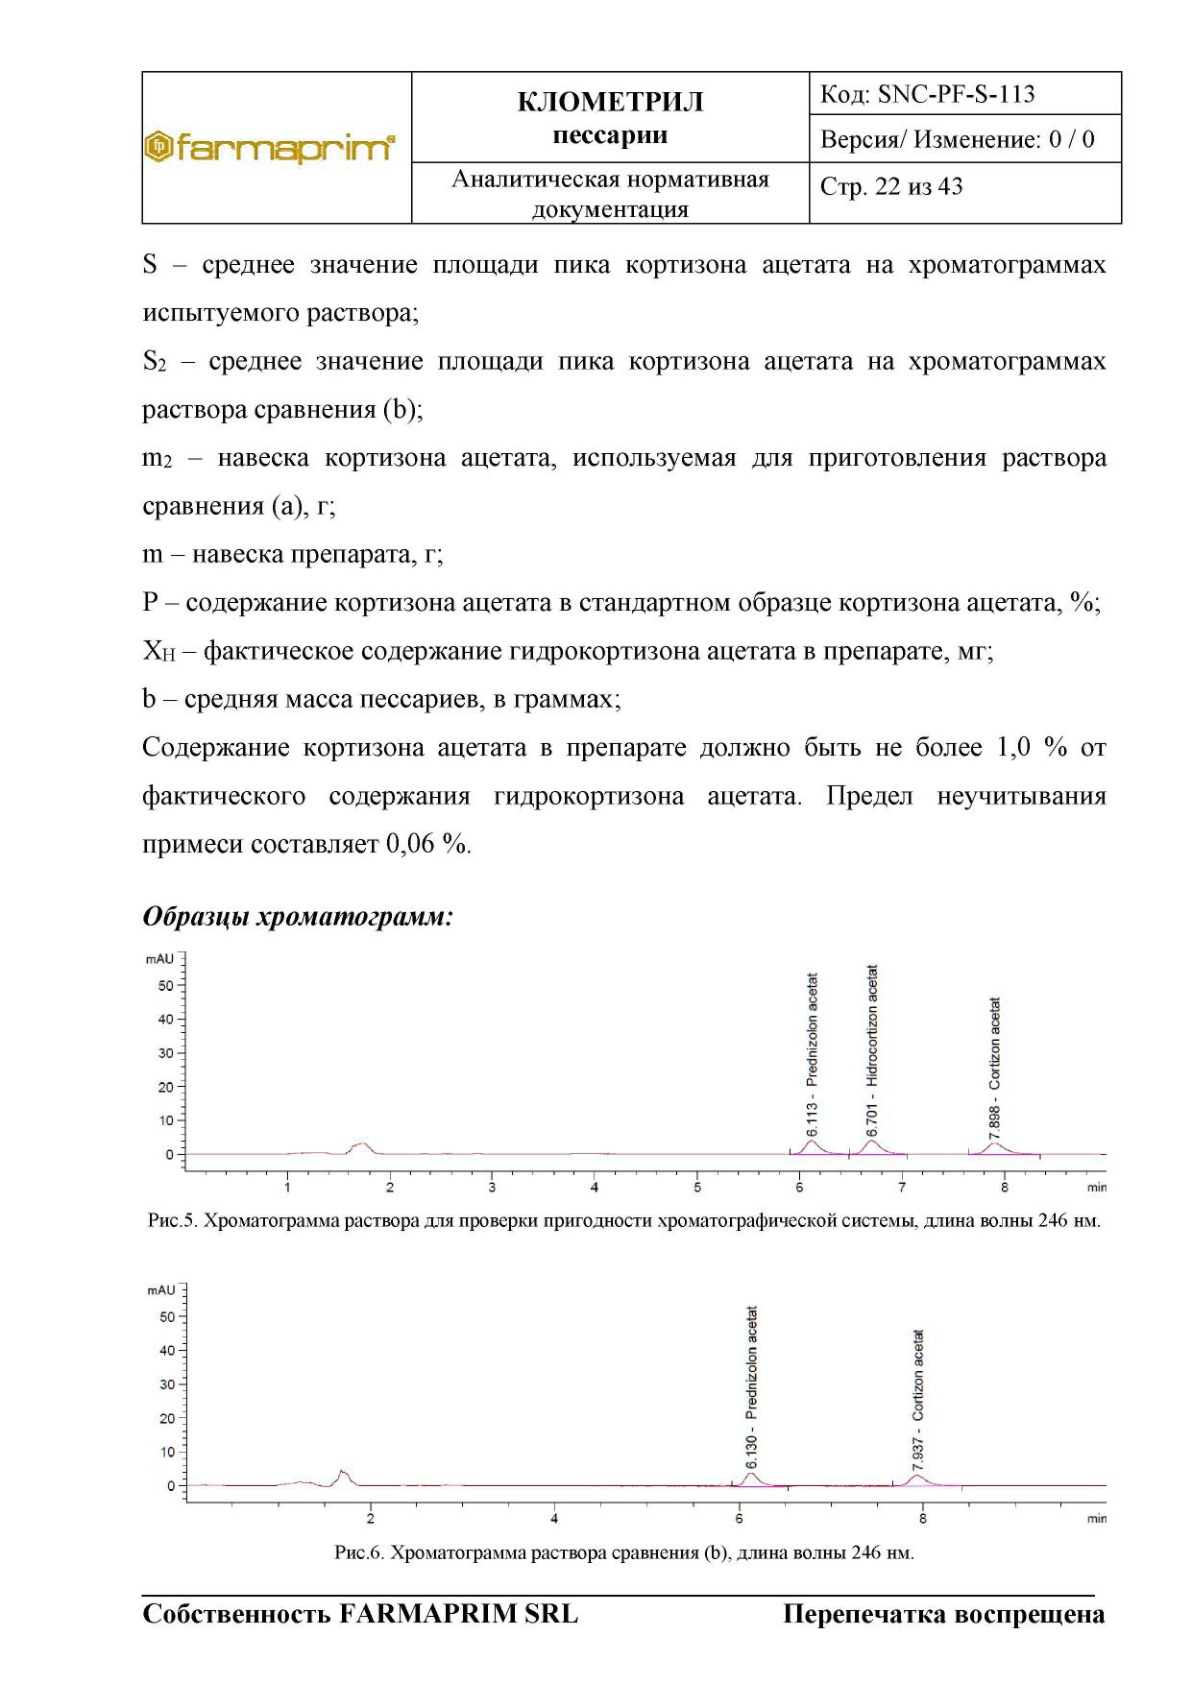merged_cells: (141, 70, 1124, 226)
